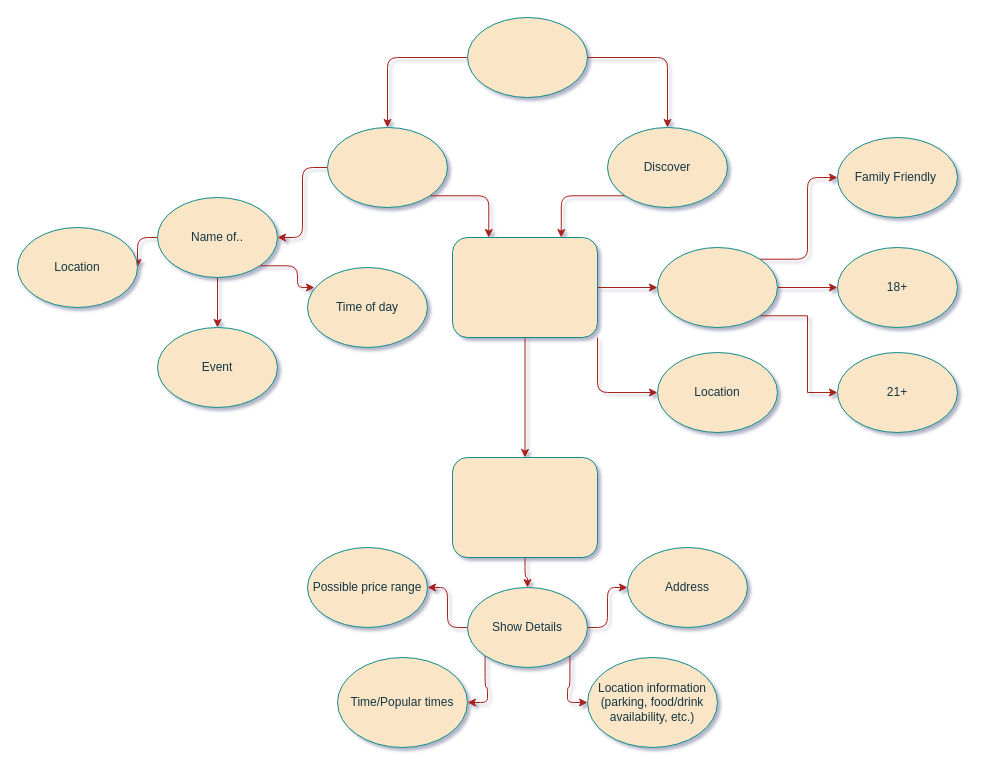
This 981x771 diagram has some shape labels left out. The centre of each missing label's shape, as x and y in pixels:
"Age" goes at [717,287].
"Filter" goes at [525,287].
"Mouse Hover over event" goes at [525,507].
"Search" goes at [387,167].
"Start" goes at [527,57].
